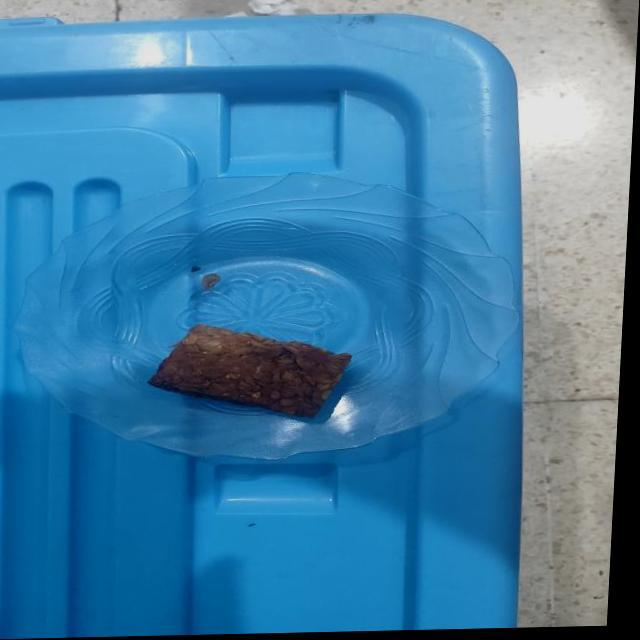tempe_goreng: (149, 324, 351, 418)
